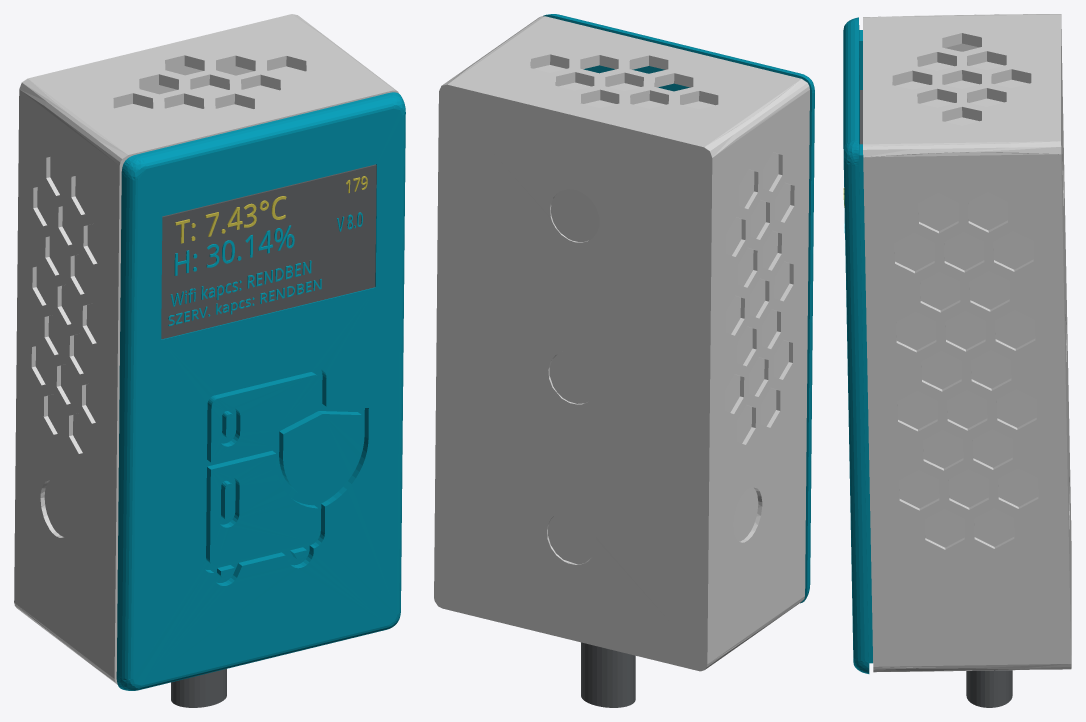
Rendered from feher_kek.glb.
3 renders of one model, left to right at view 1: azimuth 30°, elevation 25°; view 2: azimuth 150°, elevation 25°; view 3: azimuth 270°, elevation 25°, orthographic. The views are drawn at different scales.
Visible parts, largest first — view 1: Mesh_Mesh_head_geo.001_lambert2SG.001; view 2: Mesh_Mesh_head_geo.001_lambert2SG.001; view 3: Mesh_Mesh_head_geo.001_lambert2SG.001.
Boxes of the visible parts, left/top/right/bottom form: Mesh_Mesh_head_geo.001_lambert2SG.001: left=14, top=14, right=405, bottom=707; Mesh_Mesh_head_geo.001_lambert2SG.001: left=434, top=14, right=814, bottom=707; Mesh_Mesh_head_geo.001_lambert2SG.001: left=843, top=14, right=1071, bottom=707.
Bounding box in the file's own units: 33 × 70.15 × 23.52.
